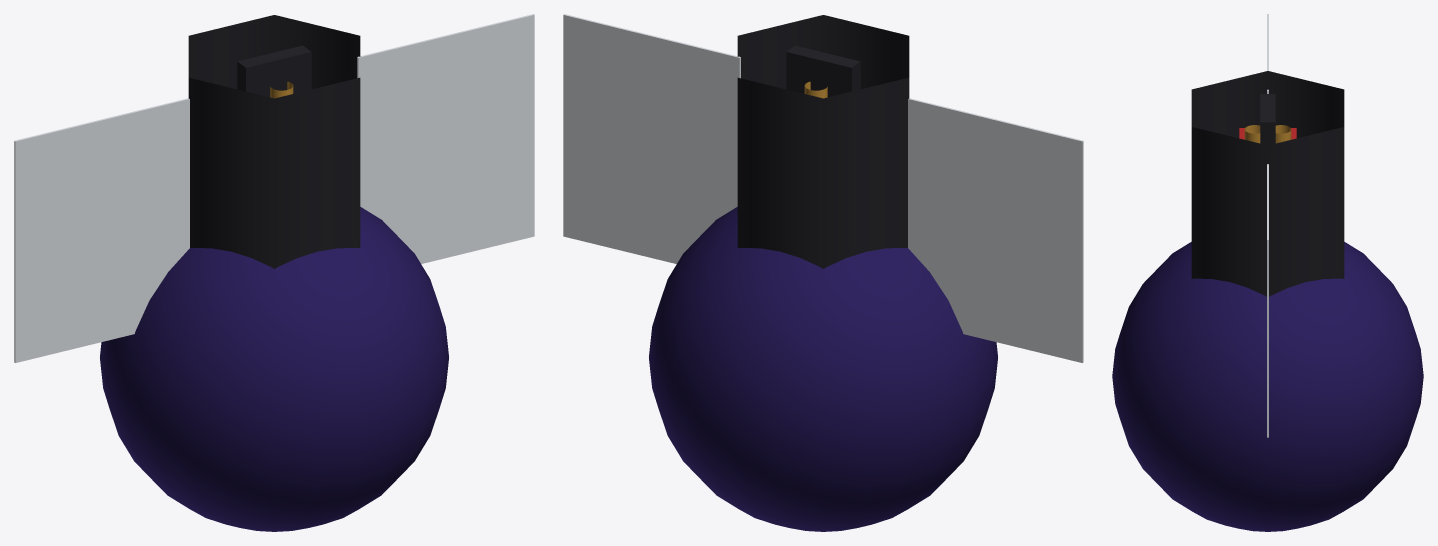
File: Tether_Climber_20T.obj
3 views of the same model, side by side, from view 1: azimuth 30°, elevation 25°; view 2: azimuth 150°, elevation 25°; view 3: azimuth 270°, elevation 25° (orthographic). The views are drawn at different scales.
Parts seen in each view (by area): view 1: GaAs_Photovoltaic, Silver_Radiator, CFRP_Chassis; view 2: GaAs_Photovoltaic, Silver_Radiator, CFRP_Chassis; view 3: GaAs_Photovoltaic, CFRP_Chassis, Silver_Radiator, DLC_Roller.
Part boxes in pixels (x1,y1,x2,y2): GaAs_Photovoltaic: (100,207,448,531); Silver_Radiator: (14,14,534,362); CFRP_Chassis: (188,15,360,268); GaAs_Photovoltaic: (649,207,997,531); Silver_Radiator: (563,14,1083,362); CFRP_Chassis: (737,15,909,268); GaAs_Photovoltaic: (1112,242,1423,531); CFRP_Chassis: (1191,71,1344,296); Silver_Radiator: (1267,14,1268,437); DLC_Roller: (1244,125,1291,143).
Bounding box in the file's own units: 10.3 × 8.7 × 6.
